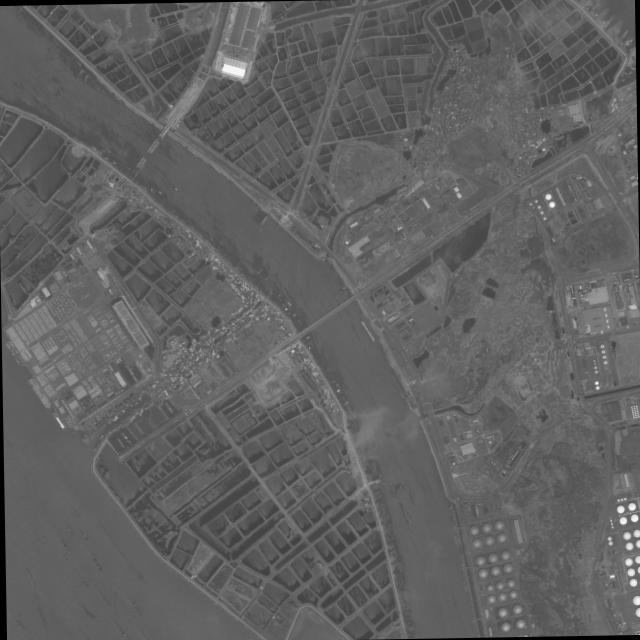ship: (27, 376, 51, 410), (4, 340, 24, 367), (50, 410, 66, 431), (145, 138, 157, 153), (148, 140, 159, 154), (258, 213, 268, 227), (131, 602, 141, 616), (134, 155, 144, 168), (137, 157, 147, 169), (258, 268, 269, 278), (256, 270, 267, 280), (85, 611, 96, 620), (460, 578, 466, 593), (66, 527, 74, 537), (116, 437, 123, 448), (80, 578, 88, 587), (121, 632, 129, 640), (80, 532, 87, 541), (452, 534, 457, 546), (395, 485, 401, 494), (64, 546, 70, 555), (447, 507, 451, 520), (378, 474, 382, 484), (95, 564, 100, 572), (90, 553, 95, 561), (100, 148, 104, 153), (377, 504, 379, 512), (92, 447, 95, 452), (97, 564, 100, 569), (112, 160, 115, 164), (99, 435, 102, 439), (157, 191, 160, 194), (173, 187, 176, 190), (628, 39, 631, 42), (593, 13, 596, 16), (133, 402, 137, 404), (128, 411, 132, 413), (379, 503, 380, 511), (104, 157, 107, 159), (133, 408, 135, 411)
storage-tank: (514, 618, 525, 629), (496, 607, 507, 617), (502, 562, 512, 573), (496, 532, 506, 542), (481, 522, 491, 532), (483, 535, 493, 545), (468, 525, 478, 535), (474, 555, 484, 565), (493, 520, 503, 529), (512, 604, 521, 614), (500, 621, 509, 631), (497, 591, 506, 601), (500, 550, 509, 560), (490, 565, 499, 575), (477, 568, 486, 578), (631, 595, 640, 605), (621, 531, 630, 540), (471, 538, 480, 547), (495, 581, 504, 590), (486, 594, 495, 603), (487, 553, 496, 562), (628, 578, 636, 587), (623, 558, 632, 566), (627, 502, 635, 511), (618, 516, 626, 525), (632, 529, 640, 537), (626, 568, 634, 576), (624, 542, 632, 550), (615, 505, 623, 513), (506, 579, 514, 587), (508, 590, 516, 598), (634, 607, 640, 617), (630, 514, 637, 522), (634, 539, 640, 548), (547, 201, 554, 208), (634, 555, 640, 563), (544, 193, 550, 200), (486, 584, 492, 591), (636, 565, 640, 574), (594, 385, 599, 390), (607, 541, 612, 545), (638, 576, 640, 584), (606, 536, 610, 540), (599, 344, 603, 348), (600, 349, 604, 353), (602, 360, 606, 364), (593, 381, 597, 385), (541, 216, 545, 219), (536, 205, 540, 208), (533, 199, 537, 202), (601, 355, 605, 358), (593, 365, 596, 369), (619, 498, 622, 501), (608, 519, 611, 522), (609, 522, 612, 525), (622, 278, 625, 281), (539, 211, 542, 214), (528, 202, 531, 205), (487, 440, 490, 443), (451, 462, 454, 465), (593, 370, 596, 373), (616, 499, 619, 501), (623, 497, 625, 500), (624, 278, 627, 280), (613, 275, 615, 278), (613, 278, 616, 280), (611, 278, 613, 281), (592, 362, 595, 364), (592, 359, 594, 362), (633, 412, 635, 414), (634, 416, 636, 418), (634, 414, 636, 416), (632, 407, 634, 409), (632, 405, 634, 407), (631, 413, 633, 415), (630, 409, 632, 411), (610, 526, 612, 528), (615, 281, 617, 283), (613, 281, 615, 283), (531, 206, 533, 208), (514, 452, 516, 454), (513, 454, 515, 456), (510, 457, 512, 459), (508, 460, 510, 462), (507, 462, 509, 464), (492, 463, 494, 465), (490, 461, 492, 463), (491, 437, 493, 439), (488, 435, 490, 437), (486, 436, 488, 438), (615, 621, 617, 623), (618, 624, 620, 625), (637, 415, 638, 417), (636, 414, 638, 415), (636, 412, 637, 414), (636, 410, 637, 412), (634, 405, 636, 406), (633, 411, 635, 412), (633, 409, 634, 411), (632, 416, 633, 418), (631, 411, 632, 413), (630, 408, 632, 409), (617, 624, 618, 626), (628, 278, 629, 280), (515, 451, 517, 452), (491, 435, 492, 437), (478, 441, 479, 443), (635, 409, 636, 410), (635, 407, 636, 408), (632, 415, 633, 416), (497, 467, 498, 468), (630, 406, 631, 407), (496, 468, 497, 469), (512, 456, 513, 457), (496, 466, 497, 467), (477, 440, 478, 441), (495, 433, 496, 434), (496, 432, 497, 433), (491, 440, 492, 441), (495, 465, 496, 466), (479, 441, 480, 442), (495, 467, 496, 468), (478, 440, 479, 441), (480, 441, 481, 442), (476, 433, 477, 434), (475, 432, 476, 433), (475, 430, 476, 431), (475, 429, 476, 430), (475, 428, 476, 429), (476, 429, 477, 430), (477, 432, 478, 433), (476, 430, 477, 431), (481, 439, 482, 440), (493, 434, 494, 434), (490, 438, 490, 438), (489, 438, 489, 439), (488, 439, 488, 439), (494, 466, 494, 467), (480, 440, 480, 440), (475, 428, 475, 429)
